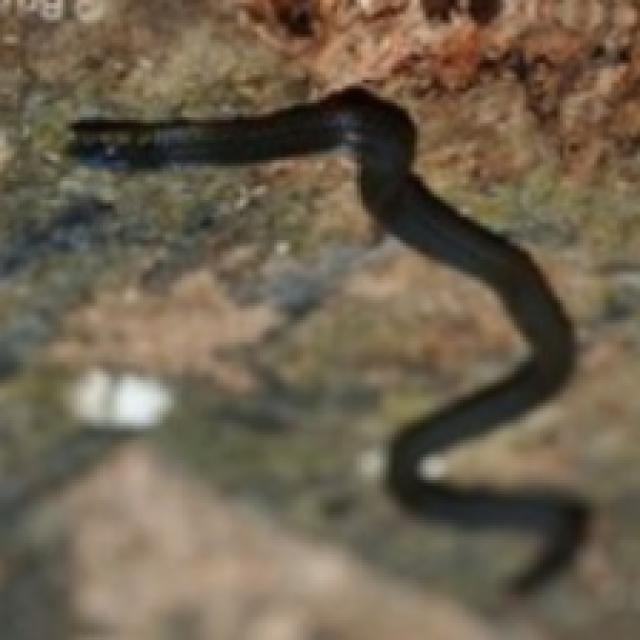gervais worm snake: (71, 86, 589, 591)
